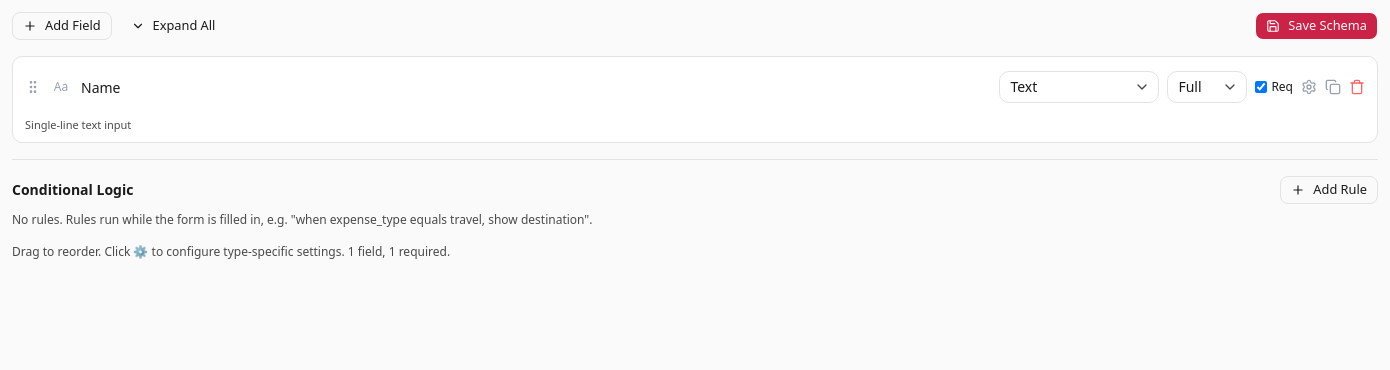
Test: FormBuilder (#71 critical bugs) › Add Field does not submit an enclosing form and appends a field
The width and height of the screenshot is (1390, 370).
Click the button "Add Field": (62, 26) [12,12,112,40]
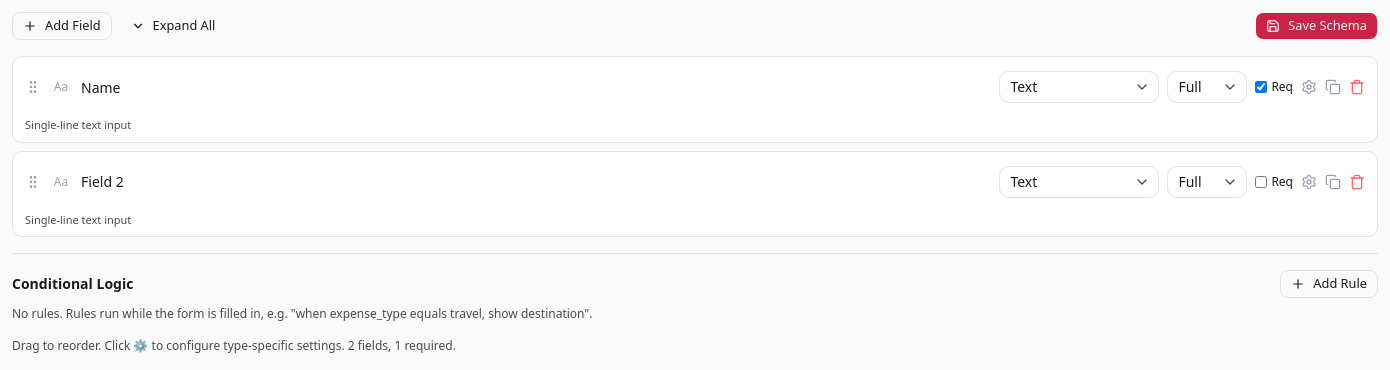
Check: the 2nd field showing "Field 2" is shown, box [81,164,991,200]
